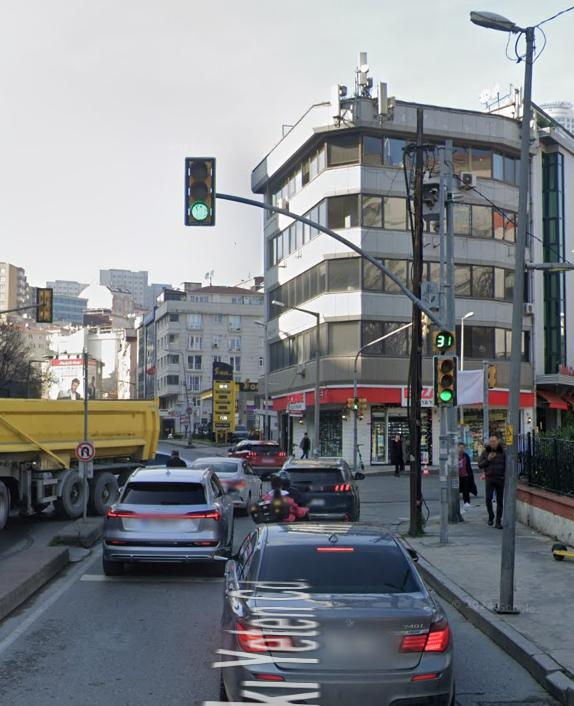greenlight: (186, 159, 215, 225), (433, 350, 457, 407)
